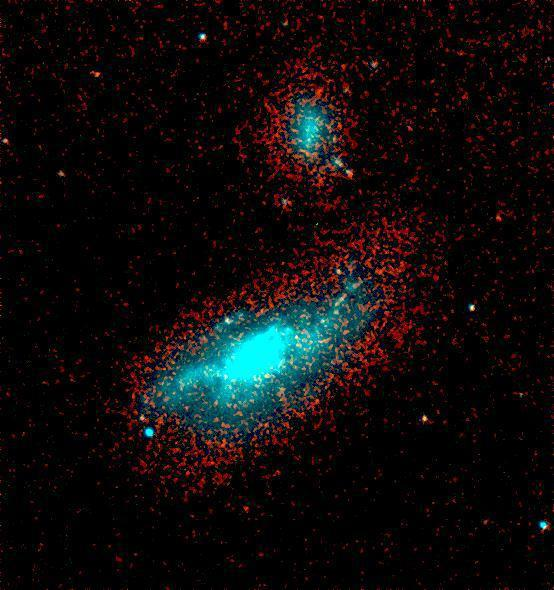star: (231, 495, 261, 525)
